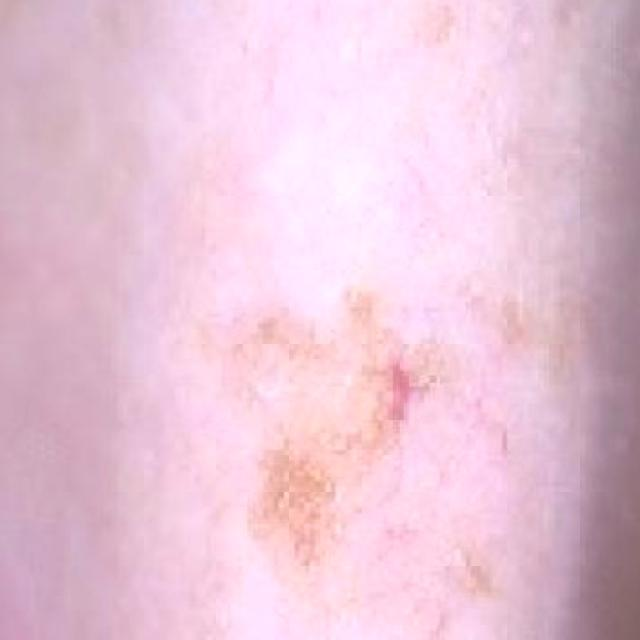BKL: (192, 222, 464, 576)
